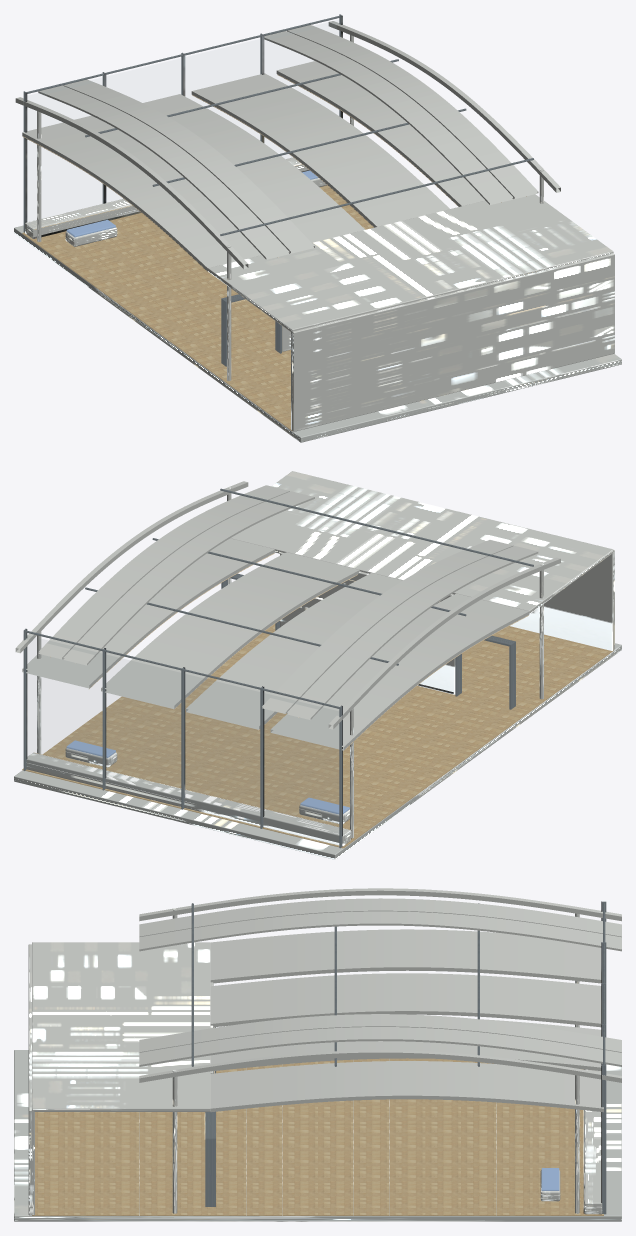
Rendered from architecture.glb.
3 renders of one model, top to bottom at view 1: azimuth 30°, elevation 25°; view 2: azimuth 150°, elevation 25°; view 3: azimuth 270°, elevation 25°, orthographic. The views are drawn at different scales.
Parts seen in each view (by area): view 1: Static_Architecture; view 2: Static_Architecture; view 3: Static_Architecture.
Boxes of the visible parts, box(x1,y1,x2,y2) form: Static_Architecture: box(14, 14, 621, 442); Static_Architecture: box(14, 471, 621, 859); Static_Architecture: box(14, 888, 621, 1221).
Size of the model in its own units: 22 by 10.48 by 34.
Materials: 8 (4 with a texture image).
